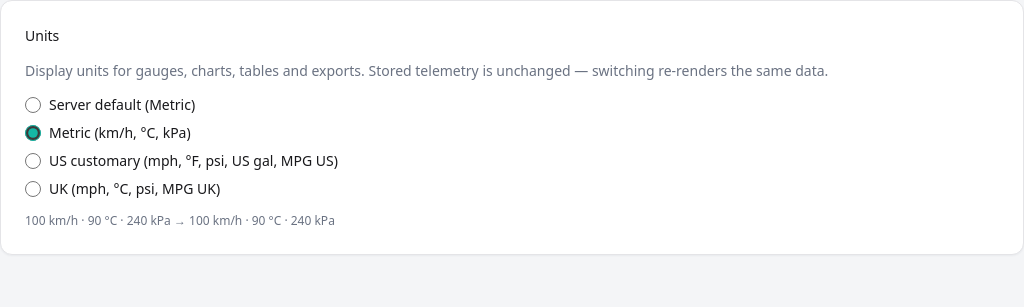
Test case: UnitsCard › rolls the selection back and shows an error when the save fails
The width and height of the screenshot is (1024, 307).
Expected: the radio button labelled "Metric (km/h, °C, kPa)" is checked, top-left (25, 124), bottom-right (41, 140)
Click the radio button labelled "US customary (mph, °F, psi, US gal, MPG US)": [33, 160] box top-left (25, 152), bottom-right (41, 168)
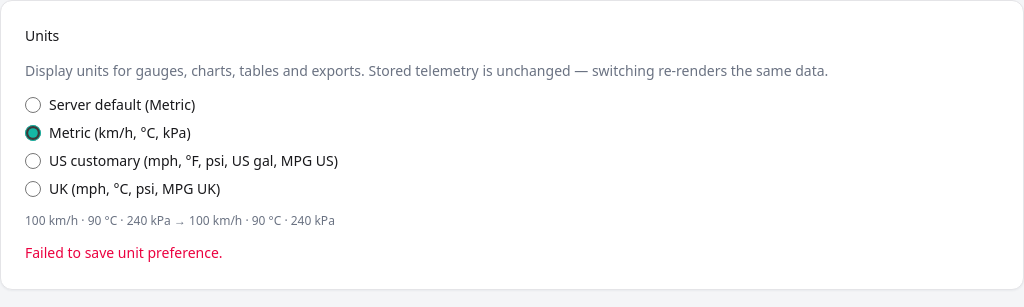
Expected: the radio button labelled "Metric (km/h, °C, kPa)" is checked, top-left (25, 124), bottom-right (41, 140)
Expected: the message "Failed to save unit preference." is shown, top-left (25, 243), bottom-right (223, 262)
